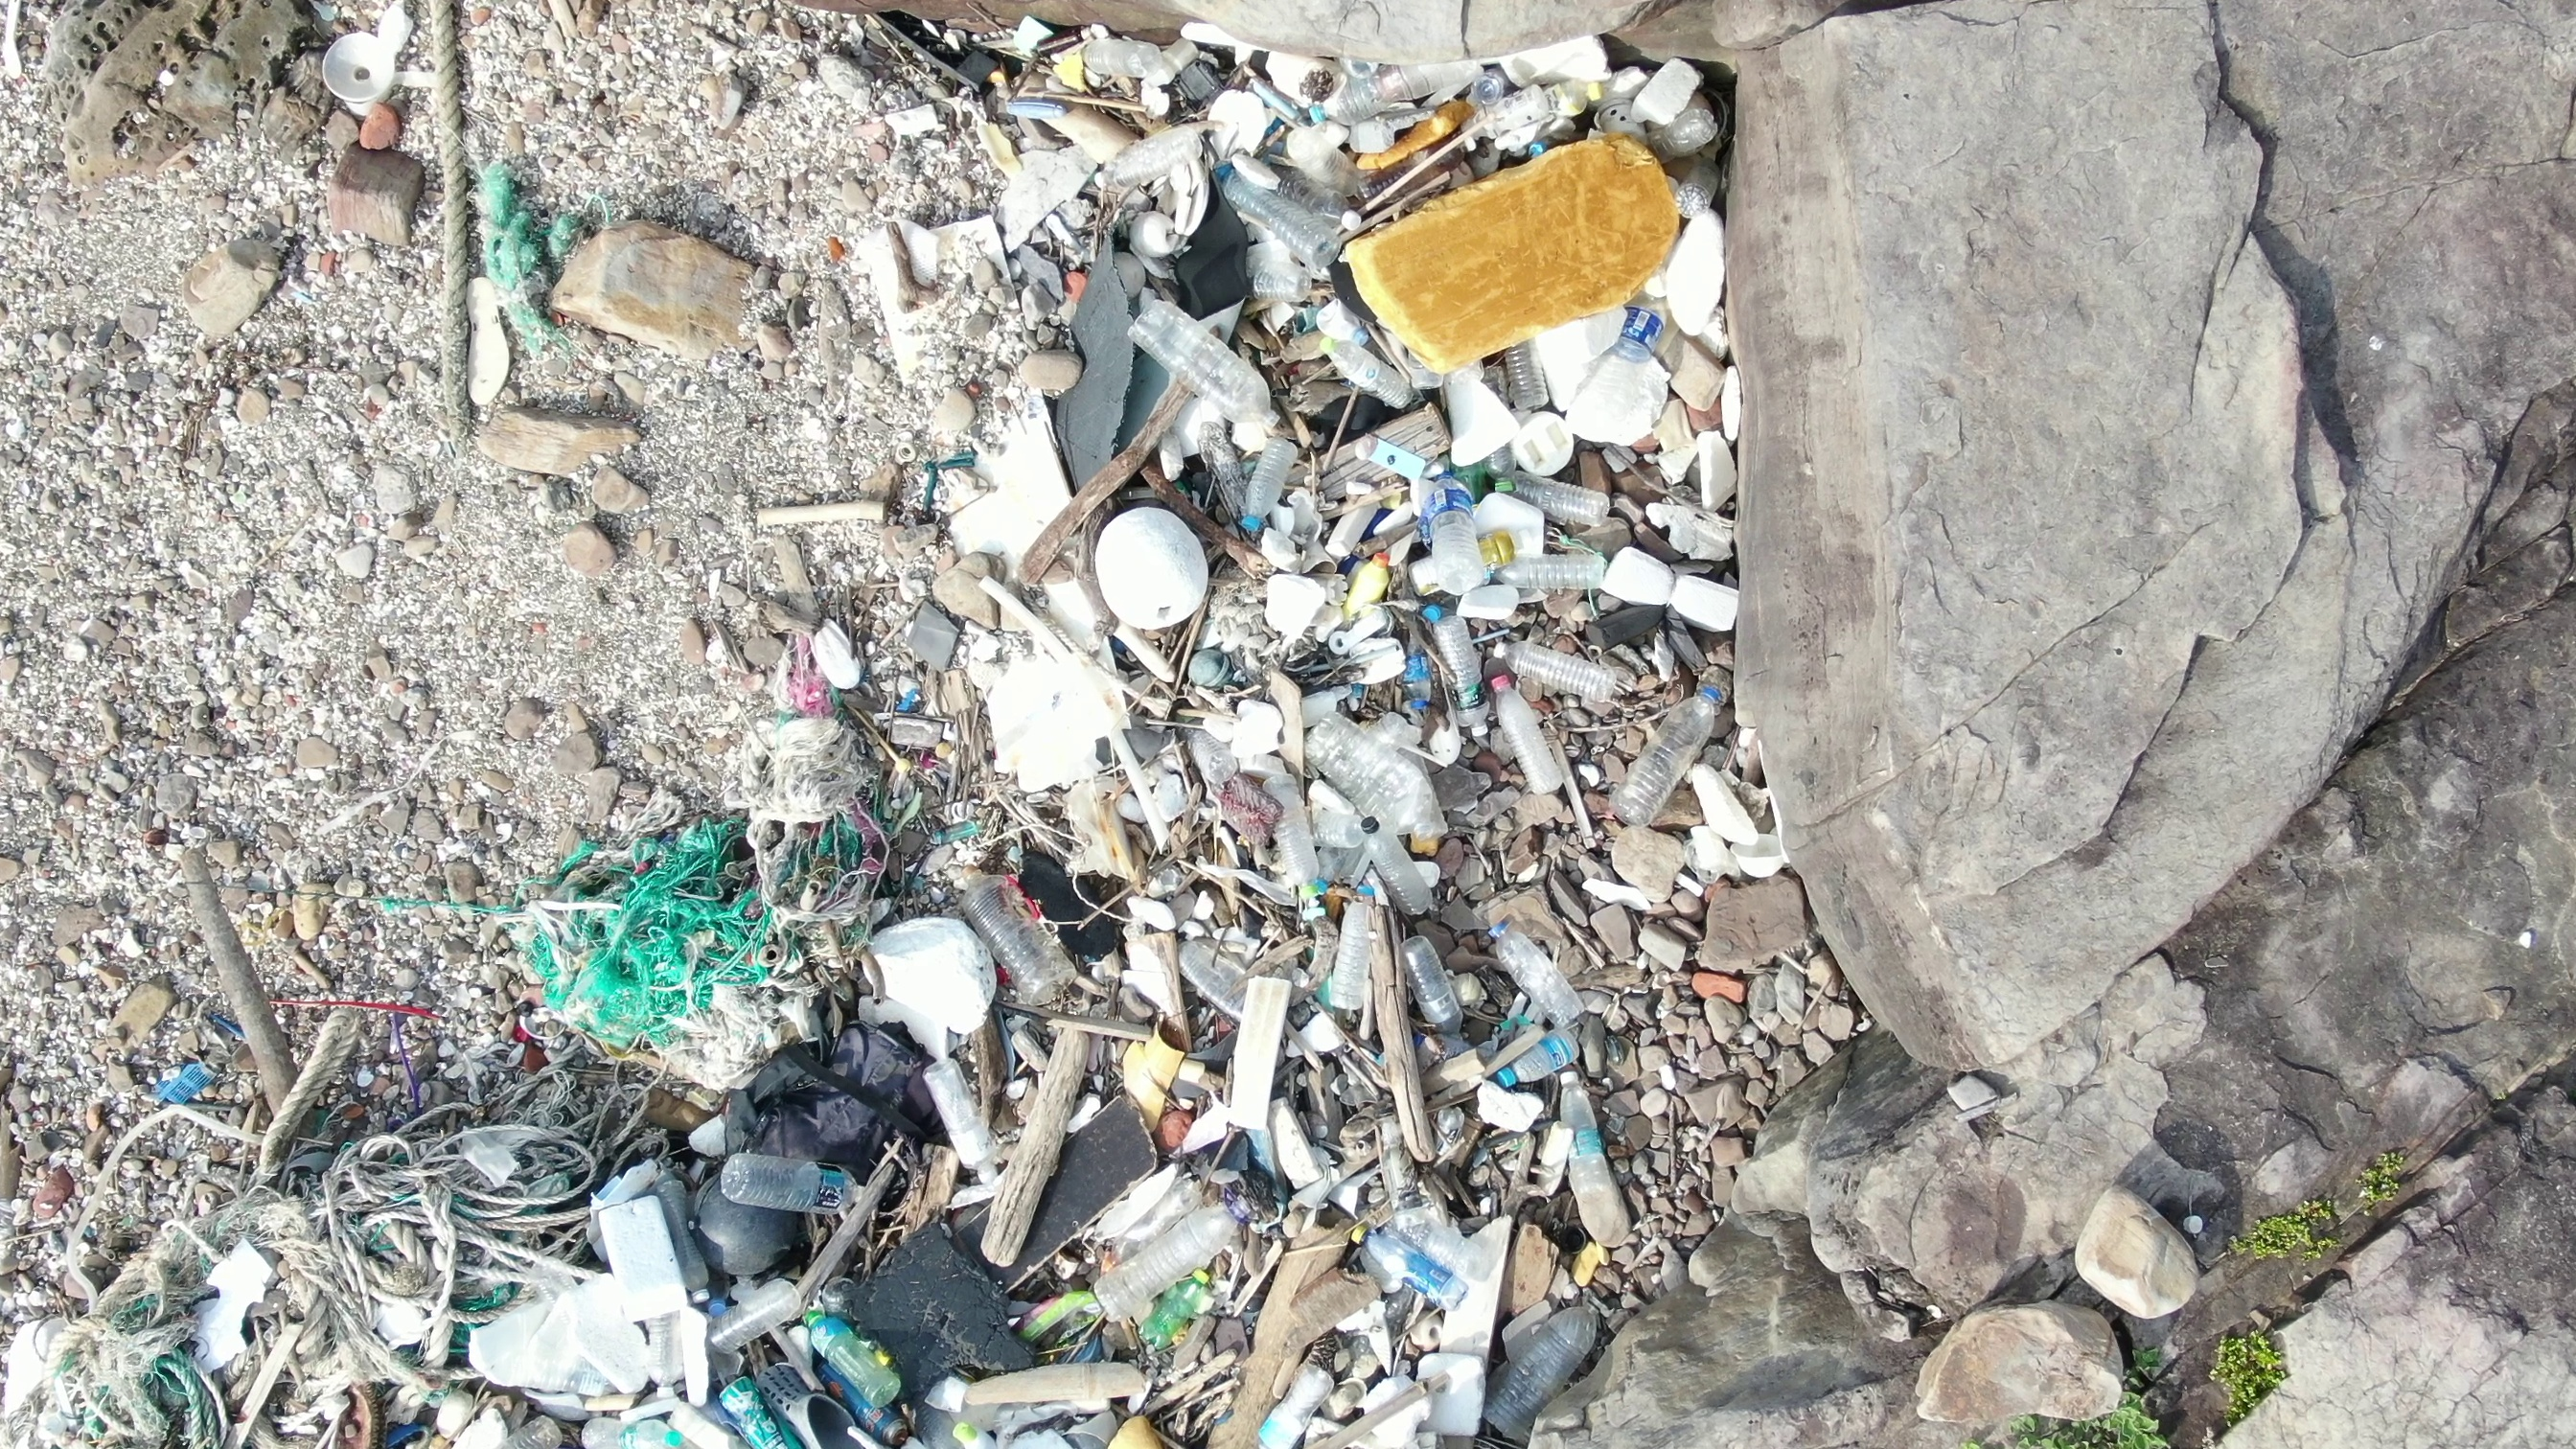bottle: (1131, 297, 1290, 428), (1483, 1297, 1626, 1442), (1615, 672, 1739, 830), (952, 855, 1076, 1008), (1571, 287, 1684, 446), (1214, 147, 1352, 274), (789, 1293, 902, 1407), (1306, 55, 1474, 127), (1488, 671, 1573, 809), (1345, 1219, 1461, 1315), (711, 1157, 865, 1219), (1497, 462, 1628, 533), (1438, 605, 1502, 747), (1424, 462, 1484, 602), (701, 1366, 800, 1449), (1359, 812, 1433, 920), (1493, 630, 1612, 695), (1497, 918, 1576, 1014), (1398, 936, 1470, 1037), (1557, 1088, 1614, 1210), (1062, 30, 1178, 88), (1488, 1026, 1589, 1088), (1148, 1263, 1214, 1357), (1244, 444, 1309, 531), (1504, 554, 1605, 594), (1670, 157, 1729, 223), (1504, 343, 1550, 419)
garbage: (959, 14, 1734, 1447), (522, 499, 971, 1449), (27, 925, 522, 1449), (400, 9, 564, 455), (315, 25, 400, 120)
